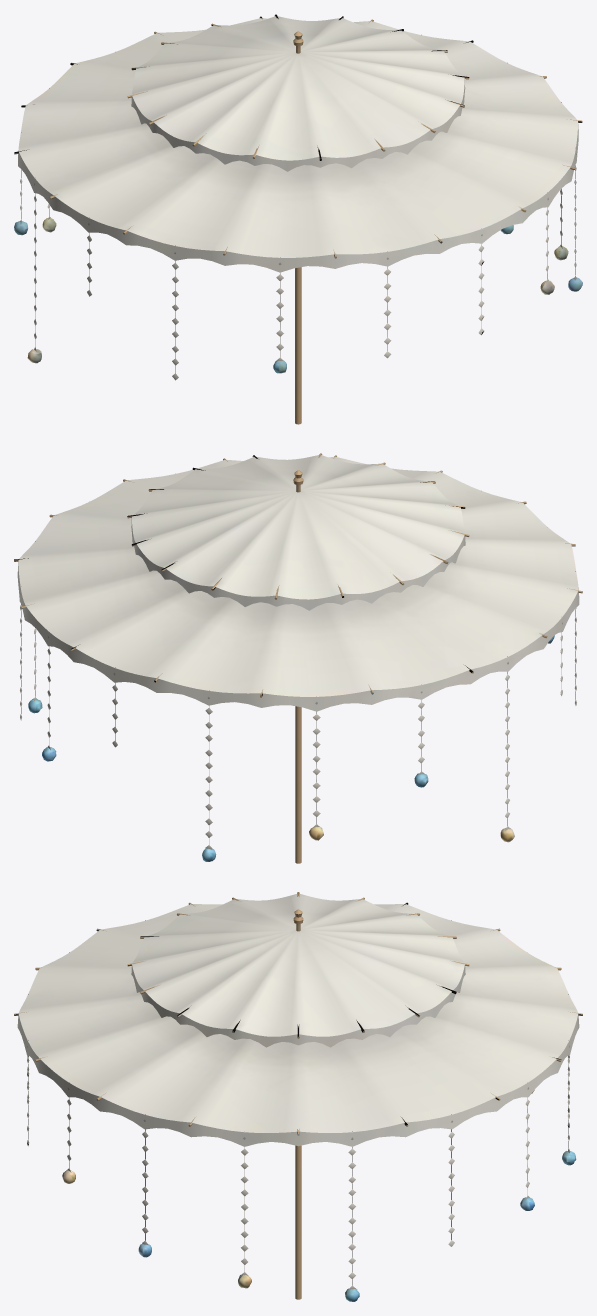
Rendered from parasol_tiered.glb.
3 views of the same model, one above another, from view 1: azimuth 30°, elevation 25°; view 2: azimuth 150°, elevation 25°; view 3: azimuth 270°, elevation 25° (orthographic).
Parts seen in each view (by area): view 1: parasol_tiered; view 2: parasol_tiered; view 3: parasol_tiered.
Boxes of the visible parts, x1,y1,x2,y2 form: parasol_tiered: [14, 14, 582, 424]; parasol_tiered: [14, 453, 582, 863]; parasol_tiered: [14, 892, 582, 1301].
Size of the model in its own units: 3.96 by 2.99 by 3.96.
1 material, 1 textured.
